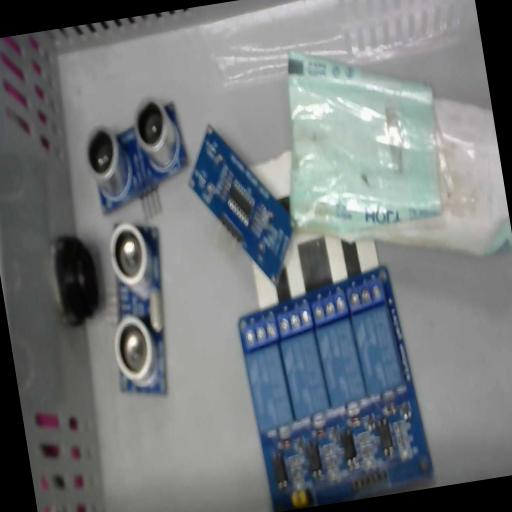QR: (234, 138, 382, 308)
relay_module: (231, 262, 435, 512)
triple_syringe: (264, 20, 512, 287)
ultrasonic_hc-sr04: (187, 121, 292, 286), (92, 216, 184, 402), (79, 90, 195, 226)
